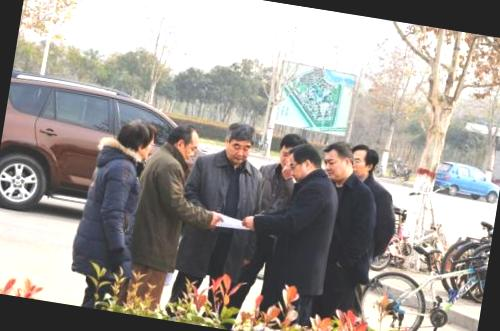no_helmet: (112, 116, 156, 164), (218, 120, 258, 170), (282, 138, 321, 186), (318, 139, 356, 185), (165, 119, 203, 163), (273, 129, 307, 177), (348, 143, 380, 183)
